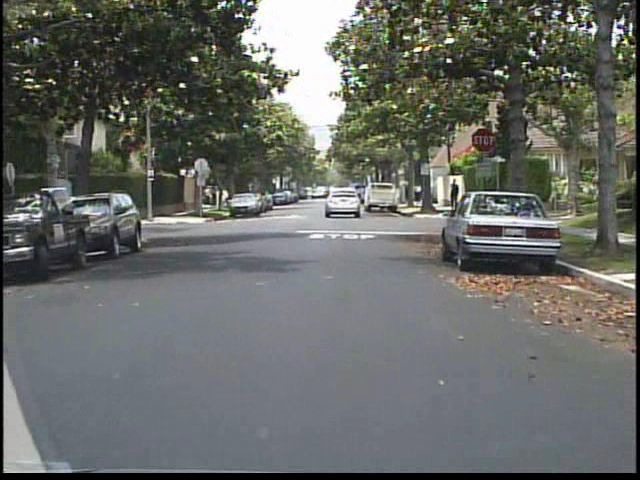person: (446, 177, 463, 214), (414, 178, 426, 205)
